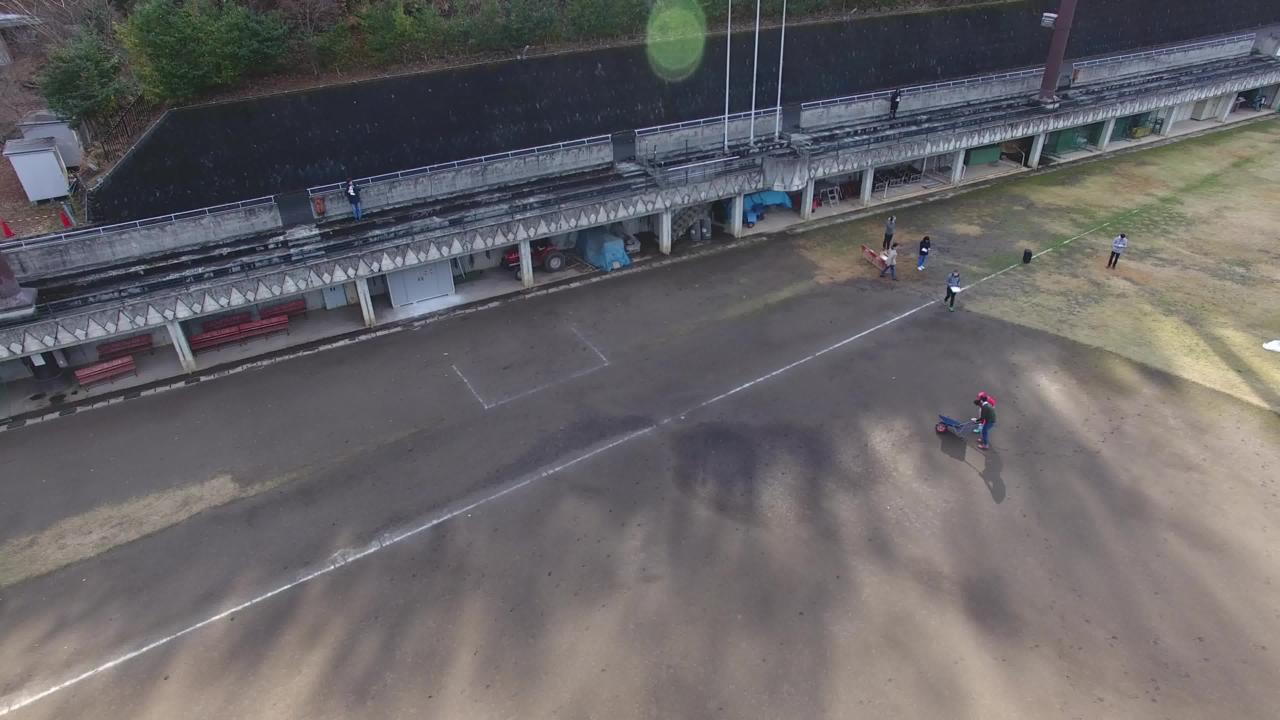person: (340, 165, 371, 226), (1101, 210, 1132, 271), (934, 259, 965, 320), (909, 212, 940, 273), (876, 190, 907, 251), (1245, 75, 1276, 136), (884, 75, 915, 136), (877, 240, 903, 285)
two person: (973, 384, 1004, 445)
